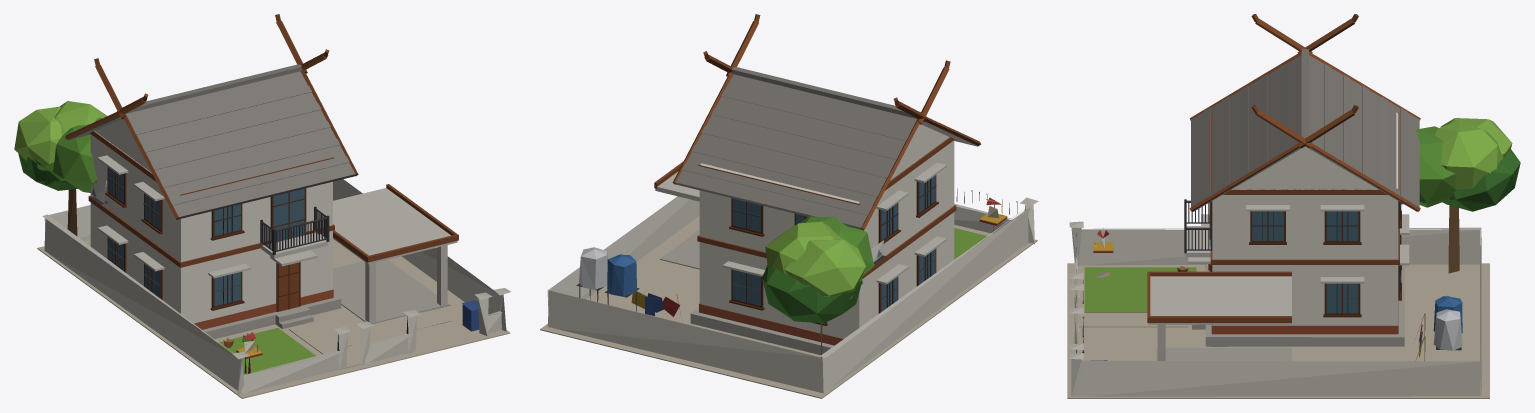
File: house12_2.glb
3 renders of one model, left to right at view 1: azimuth 30°, elevation 25°; view 2: azimuth 150°, elevation 25°; view 3: azimuth 270°, elevation 25°, orthographic. The views are drawn at different scales.
Visible parts, largest first — view 1: body, windows; view 2: body, windows; view 3: body, windows.
Boxes of the visible parts, left/top/right/bottom form: body: left=14, top=14, right=510, bottom=398; windows: left=108, top=167, right=304, bottom=306; body: left=540, top=14, right=1038, bottom=398; windows: left=732, top=175, right=935, bottom=311; body: left=1067, top=14, right=1520, bottom=398; windows: left=1210, top=202, right=1358, bottom=313.
Size of the model in its own units: 13.29 by 10.53 by 17.05.
